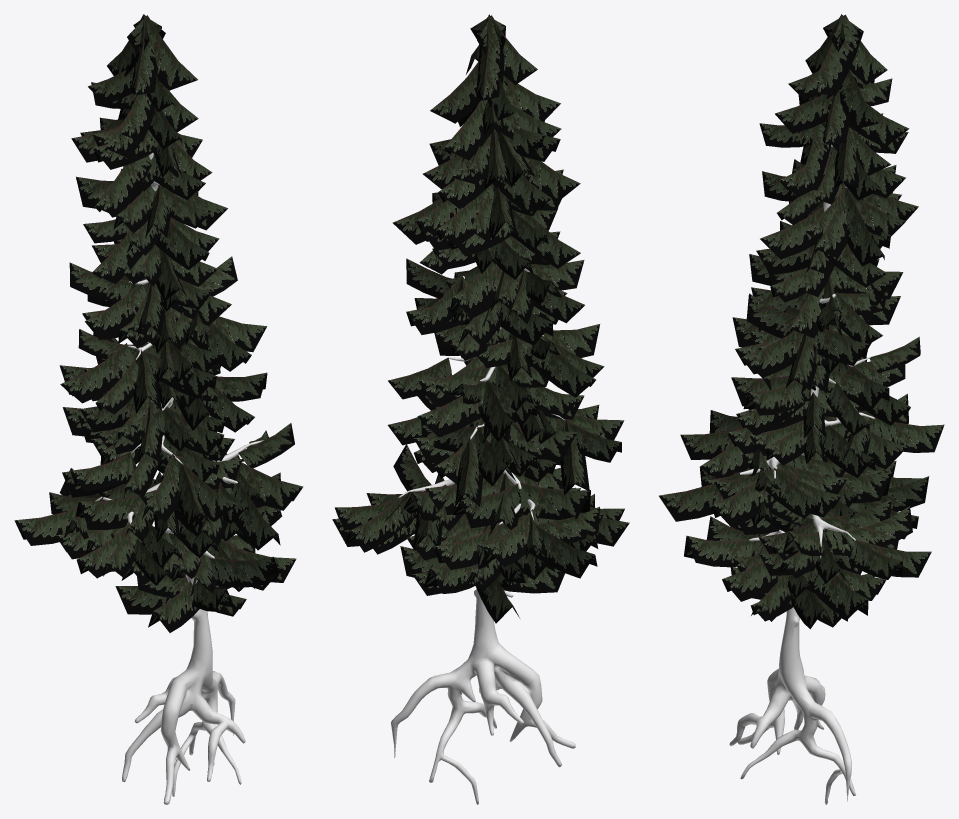
Rendered from PineTree.fbx.
3 renders of one model, left to right at view 1: azimuth 30°, elevation 25°; view 2: azimuth 150°, elevation 25°; view 3: azimuth 270°, elevation 25°, orthographic. The views are drawn at different scales.
Parts seen in each view (by area): view 1: Pine_2_Leaves, Pine_2; view 2: Pine_2_Leaves, Pine_2; view 3: Pine_2_Leaves, Pine_2.
Boxes of the visible parts, x1,y1,x2,y2 form: Pine_2_Leaves: (14, 14, 303, 632); Pine_2: (95, 153, 263, 804); Pine_2_Leaves: (332, 14, 629, 623); Pine_2: (391, 268, 575, 804); Pine_2_Leaves: (659, 14, 944, 629); Pine_2: (729, 144, 874, 804).
Bounding box in the file's own units: 183 × 530 × 176.
